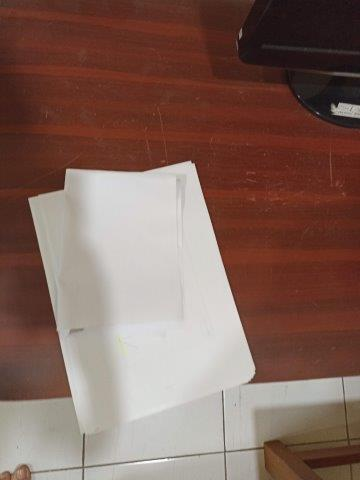kertas: (28, 160, 256, 433)
